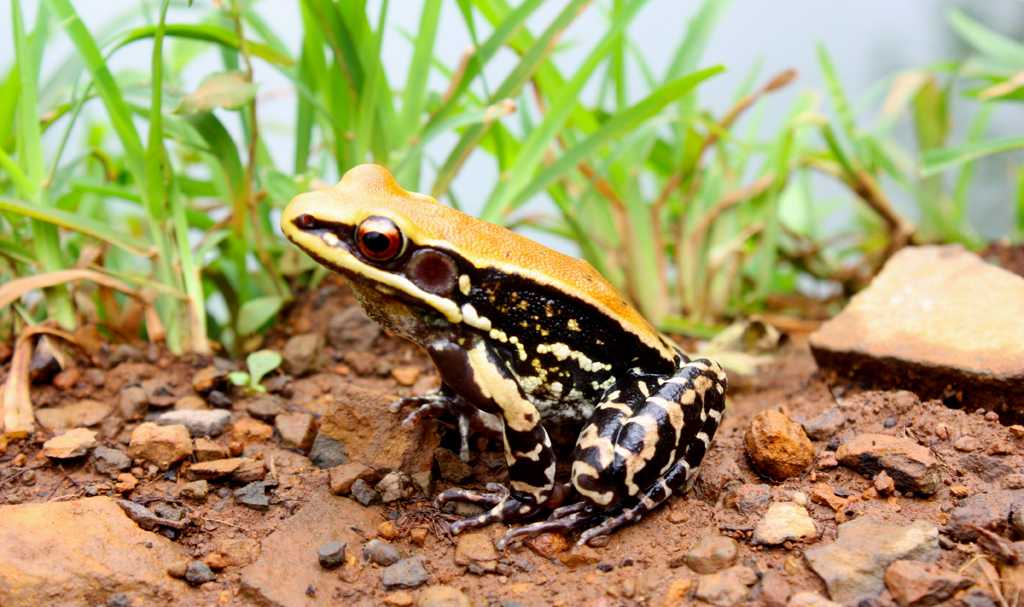Frog: (279, 162, 729, 550)
